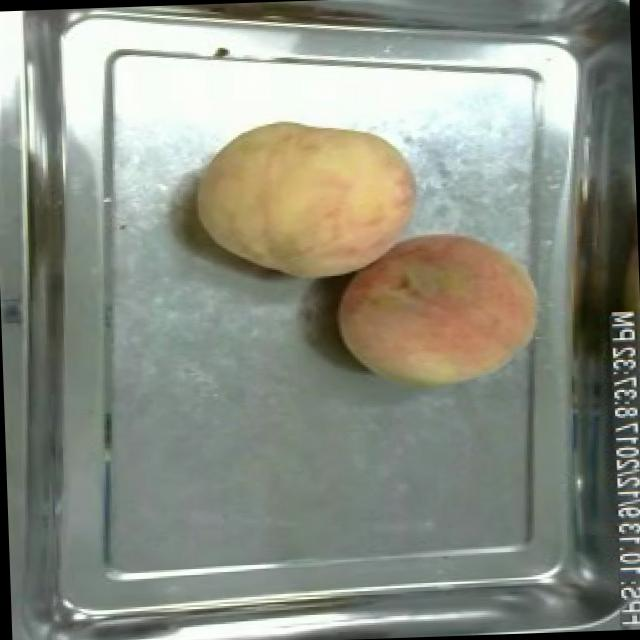Fruit: (184, 106, 428, 292), (326, 218, 546, 400)
